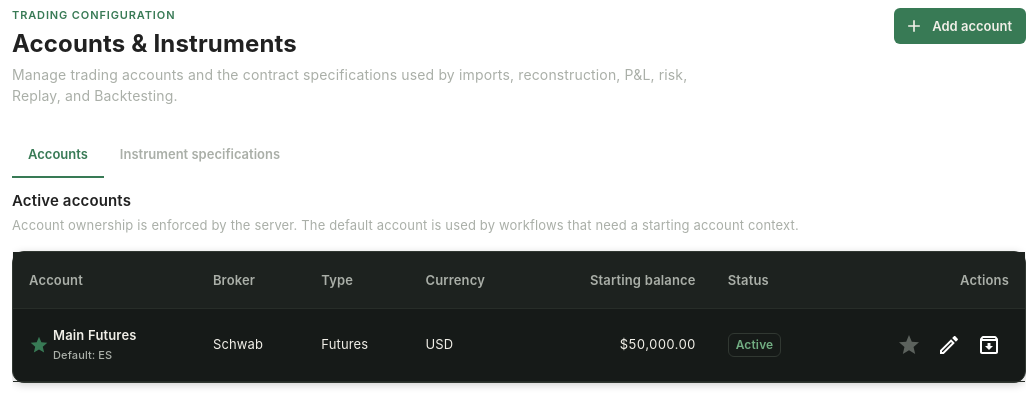
Test: renders owned account configuration and centralized built-in instrument specifications
Expected: the text "Main Futures" is shown, [53,326,136,345]
Expected: the text "Schwab" is shown, [197,308,305,381]
Click the tab "Instrument specifications" at (200,154), box [104,130,296,178]
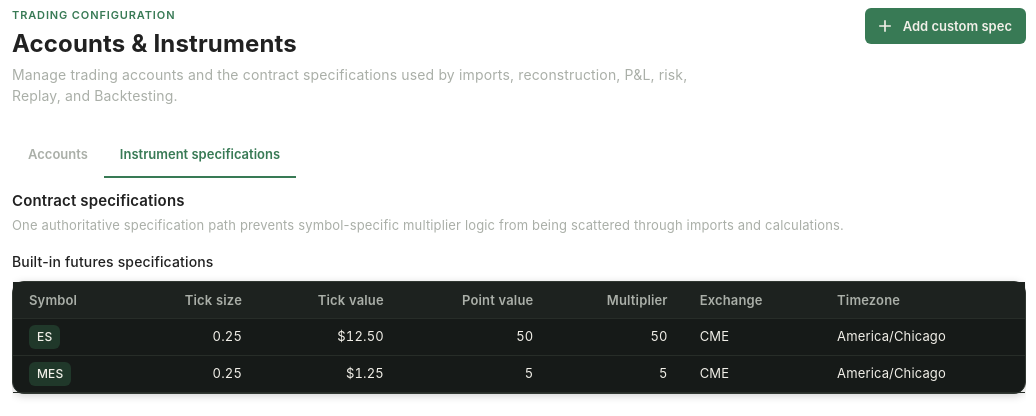
Expected: the heading "Built-in futures specifications" is shown, [12,253,214,270]
Expected: the text "MES" is shown, [37,366,63,381]
Expected: the text "$12.50" is shown, [258,318,400,355]
